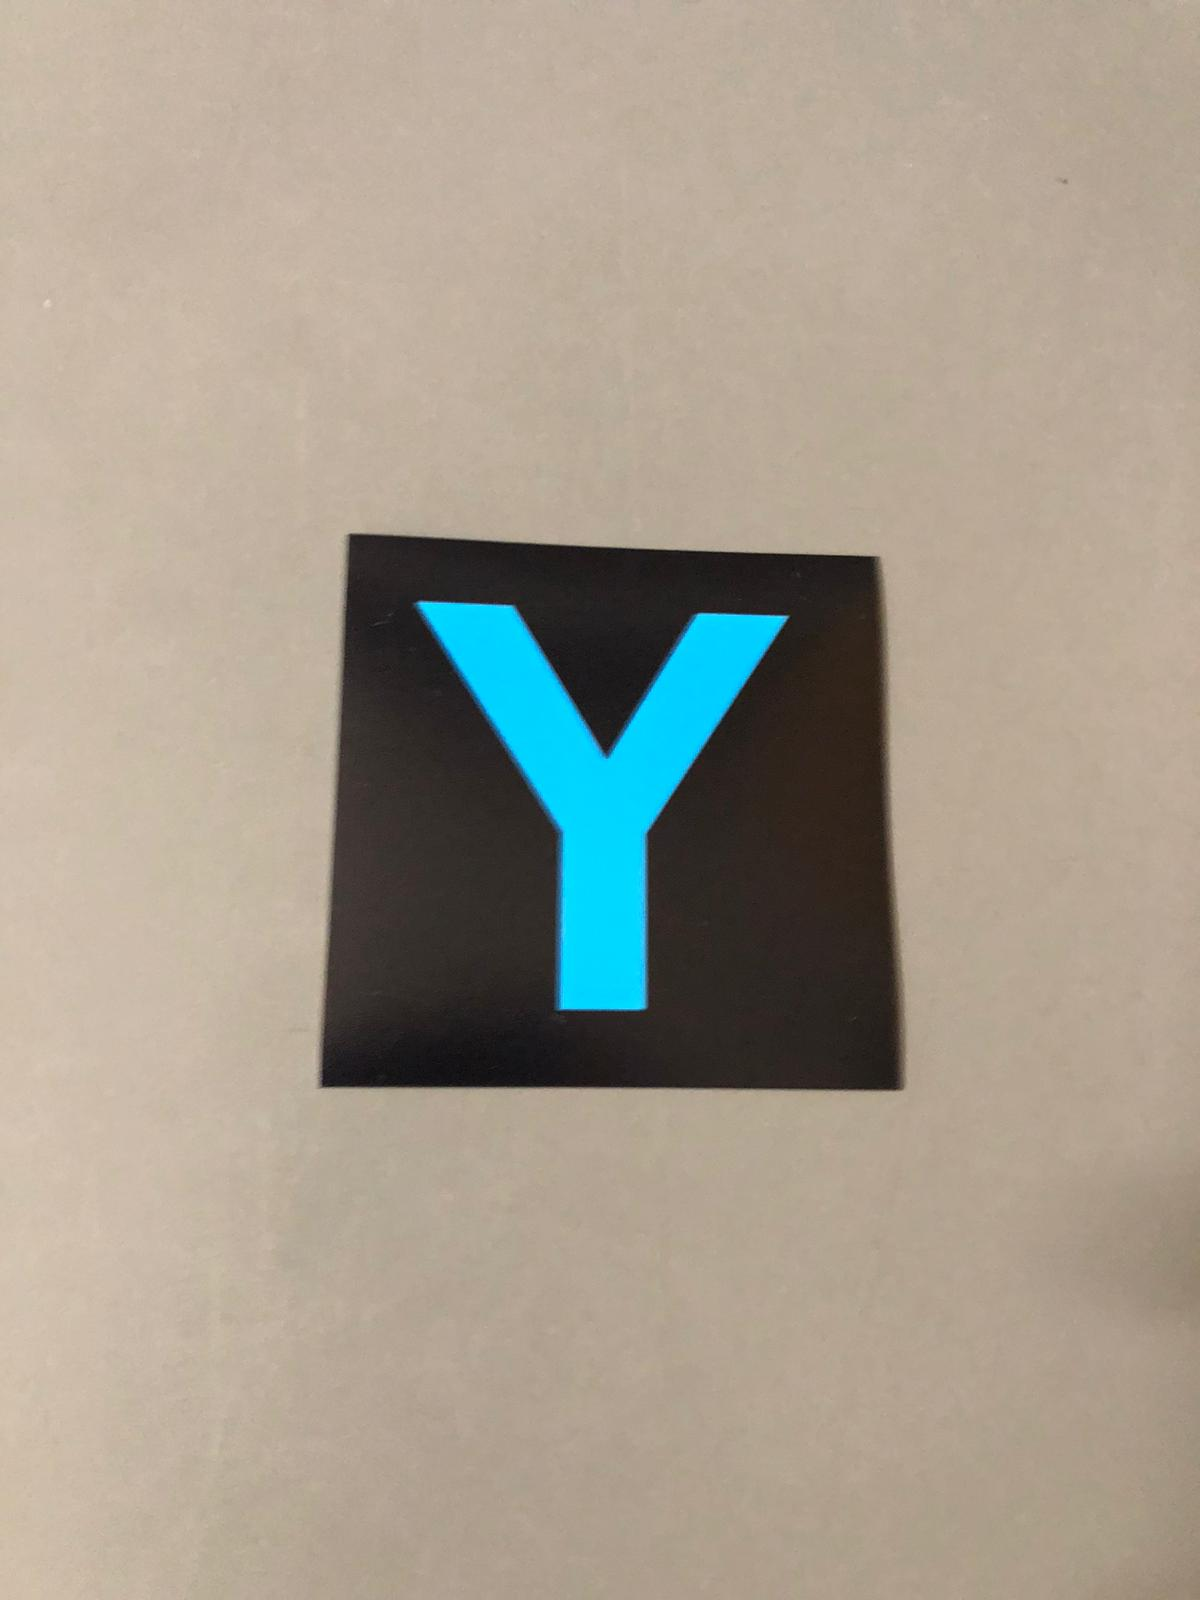Y: (348, 556, 817, 1063)
